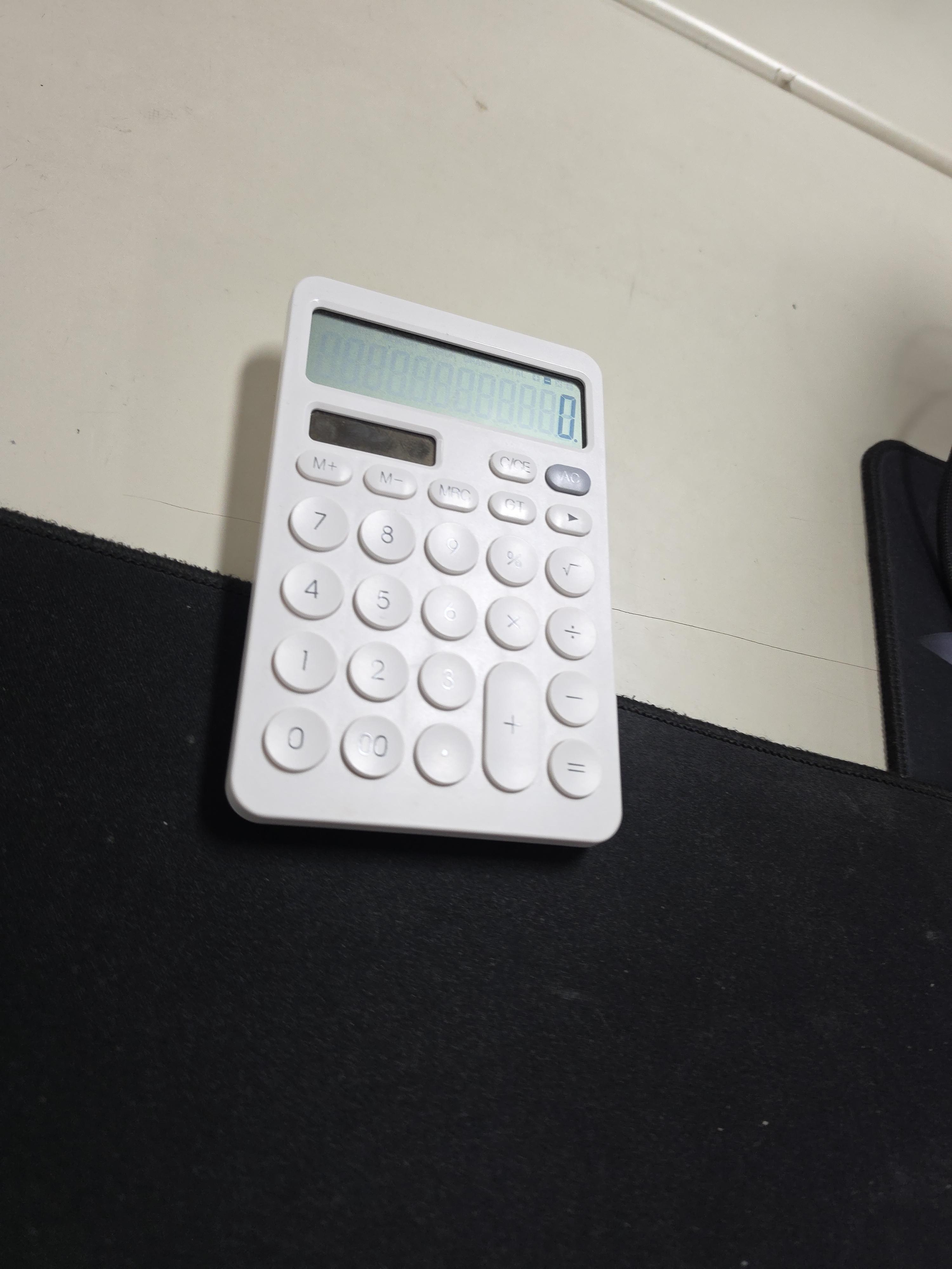calculator: (224, 275, 624, 847)
